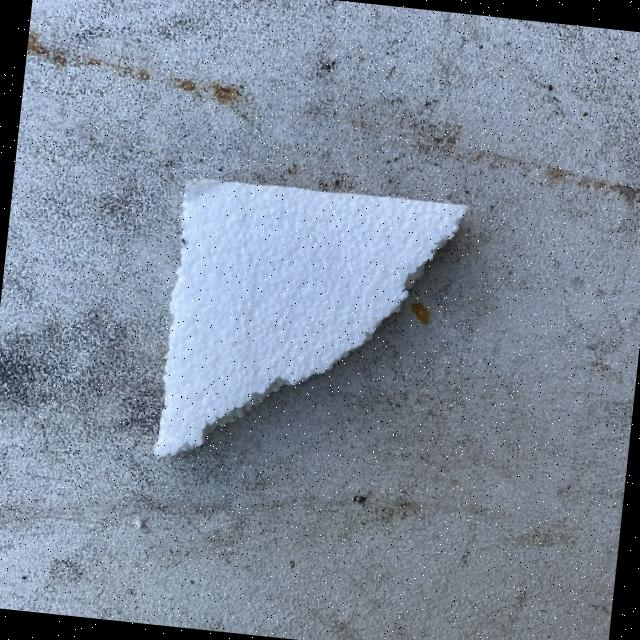styrofoam: (150, 172, 468, 488)
